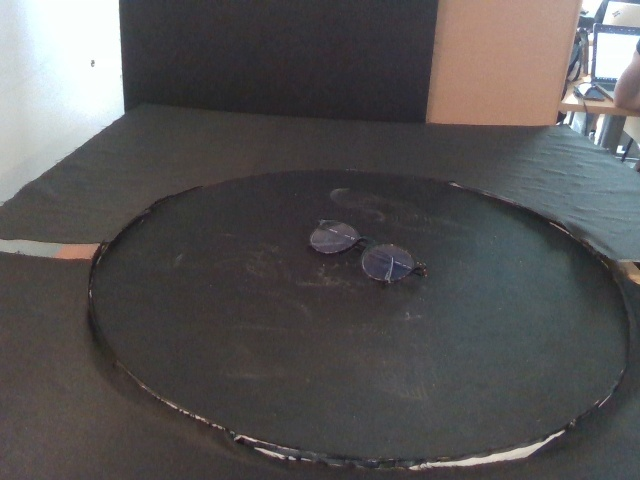glasses: (309, 216, 429, 290)
